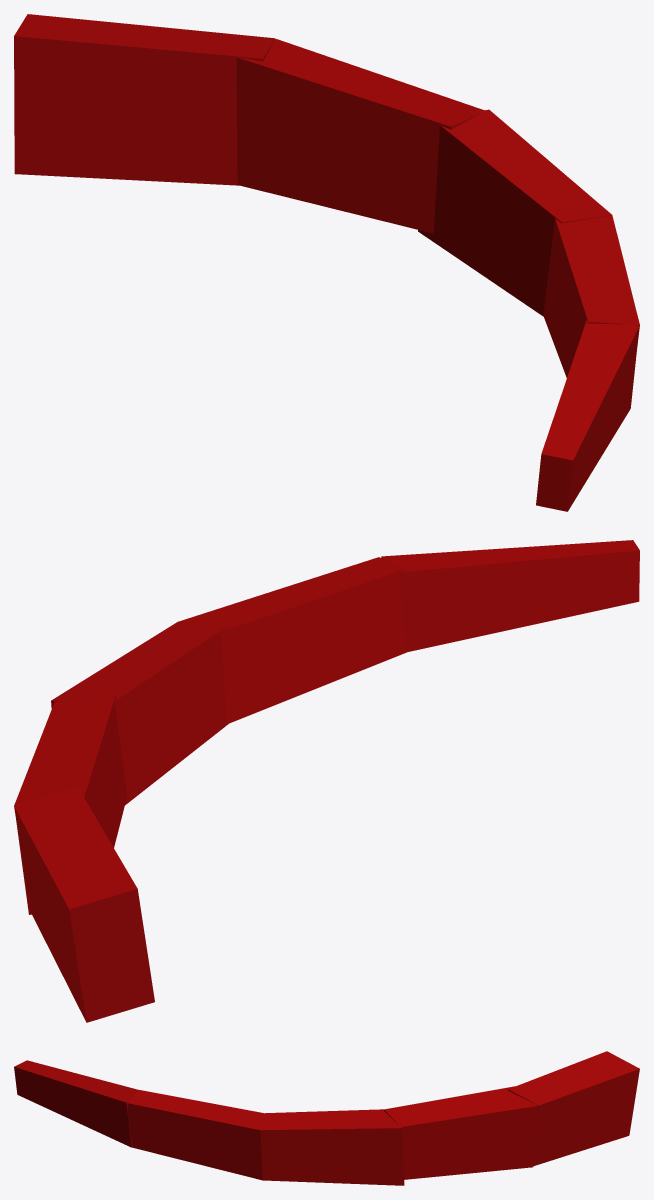
Rendered from SM_Prop_Whale_Skeleton_Rib_01_Collision.glb.
The picture shows the model from 3 angles, top to bottom: view 1: azimuth 30°, elevation 25°; view 2: azimuth 150°, elevation 25°; view 3: azimuth 270°, elevation 25°; orthographic projection. The views are drawn at different scales.
Parts seen in each view (by area): view 1: SM_Prop_Whale_Skeleton_Rib_01_Collision; view 2: SM_Prop_Whale_Skeleton_Rib_01_Collision; view 3: SM_Prop_Whale_Skeleton_Rib_01_Collision.
Part boxes in pixels (left/top/right/bottom): SM_Prop_Whale_Skeleton_Rib_01_Collision: left=14, top=14, right=639, bottom=511; SM_Prop_Whale_Skeleton_Rib_01_Collision: left=14, top=540, right=639, bottom=1022; SM_Prop_Whale_Skeleton_Rib_01_Collision: left=14, top=1051, right=639, bottom=1185.
Size of the model in its own units: 1.43 by 0.6704 by 4.84.
